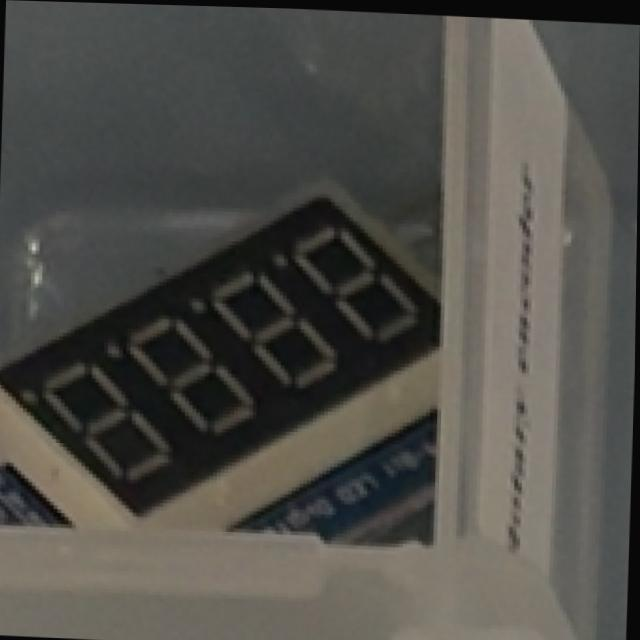Digit Display: (0, 171, 500, 618)
